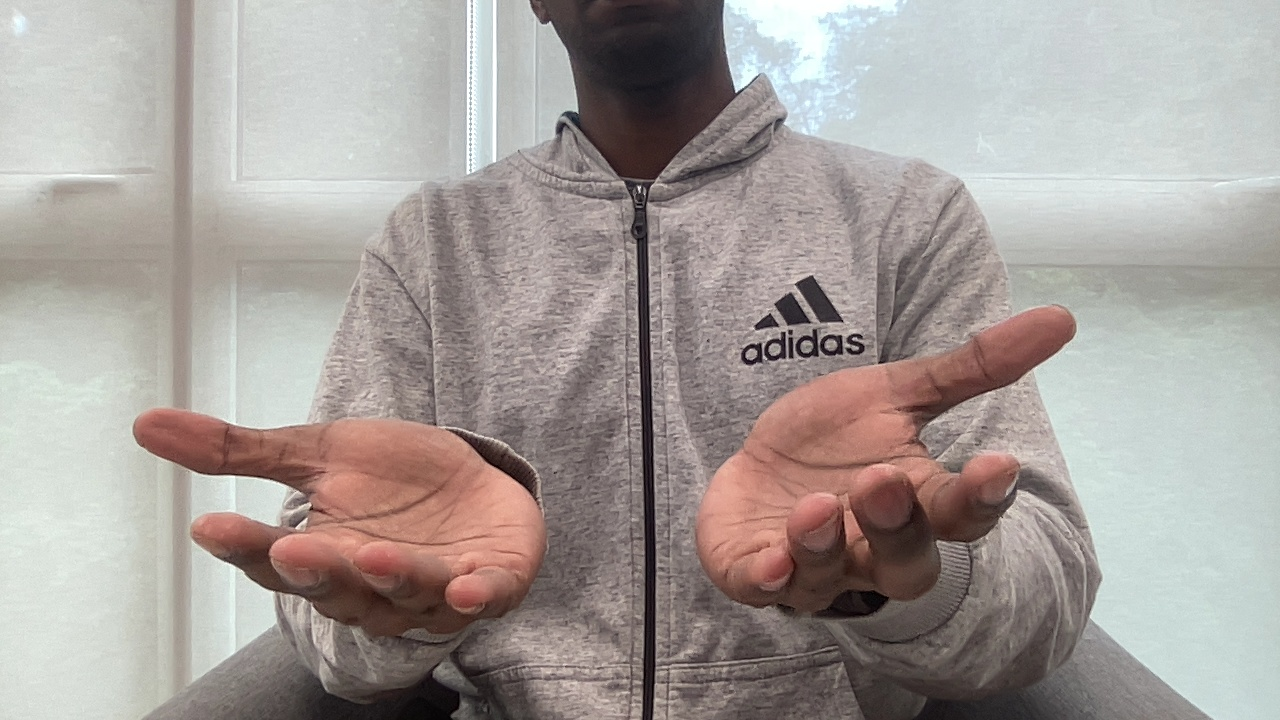give: (111, 300, 1094, 656)
